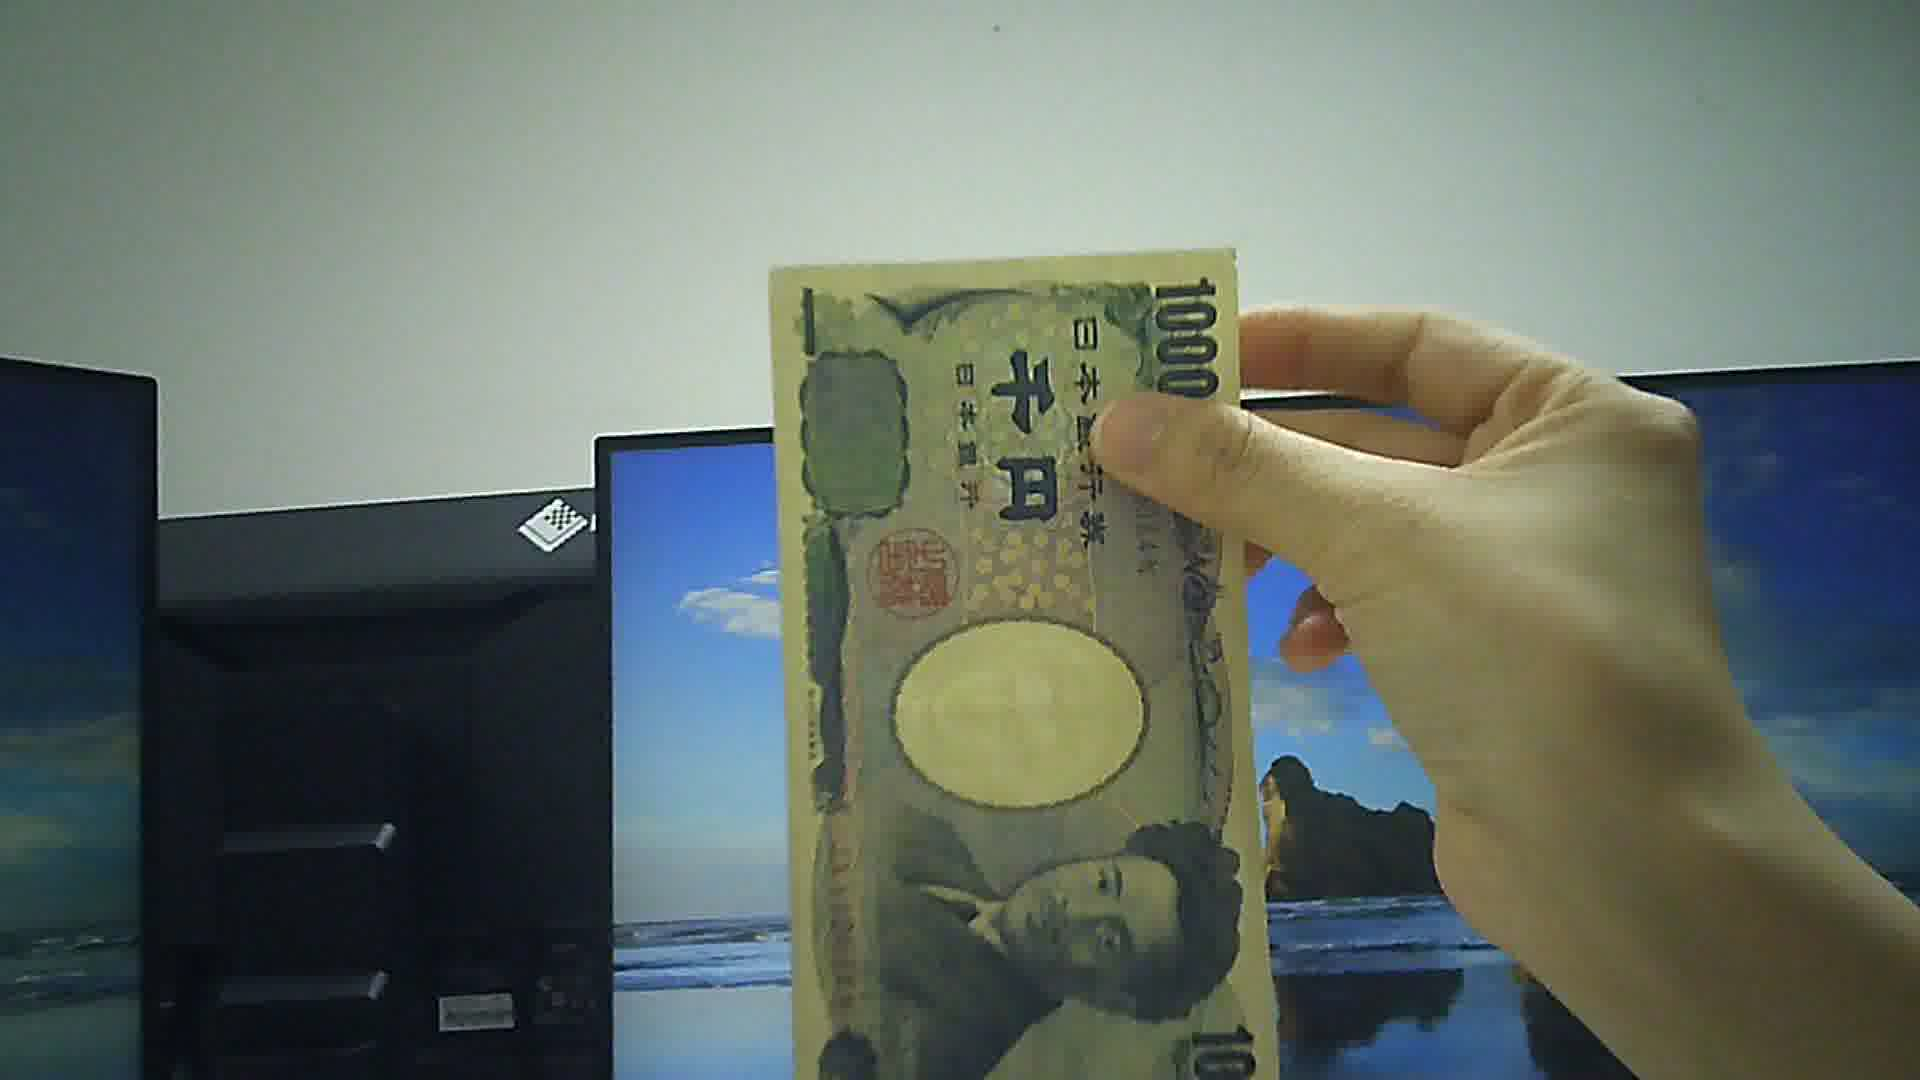1,000 Yen: (760, 243, 1270, 1065)
